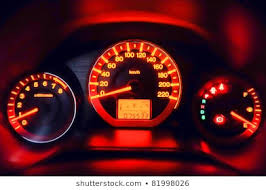Digital_Meter: (118, 100, 151, 119)
